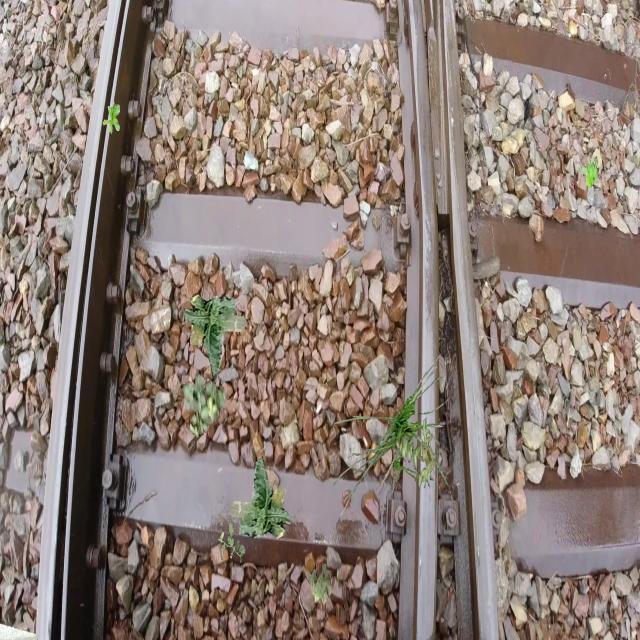Plant: (333, 354, 452, 518), (184, 295, 248, 378), (229, 456, 292, 539), (395, 417, 437, 488), (182, 373, 226, 440), (218, 522, 246, 563), (307, 563, 333, 606), (579, 156, 600, 189), (103, 102, 120, 134)
